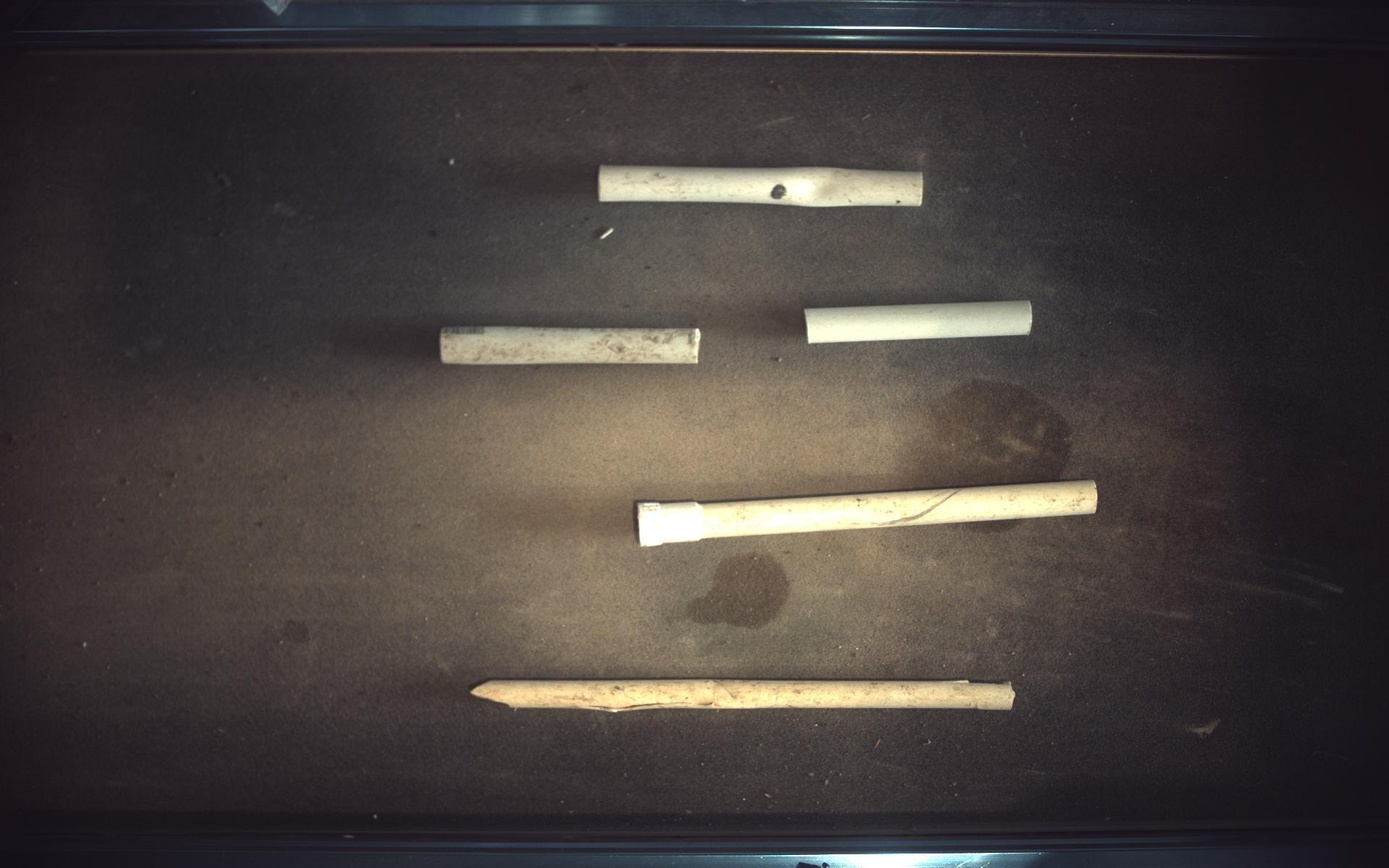pipes: (637, 480, 1100, 547), (471, 681, 1017, 714), (599, 163, 925, 207), (441, 326, 701, 365), (806, 300, 1035, 344)
